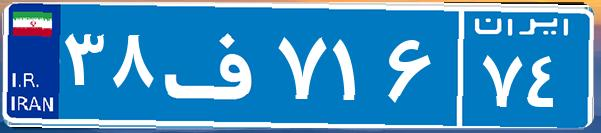1: (330, 28, 385, 110)
3: (57, 26, 110, 107)
4: (525, 38, 570, 115)
6: (385, 28, 445, 110)
7: (273, 28, 330, 110), (475, 38, 525, 113)
8: (110, 28, 158, 105)
ف: (158, 15, 273, 115)
